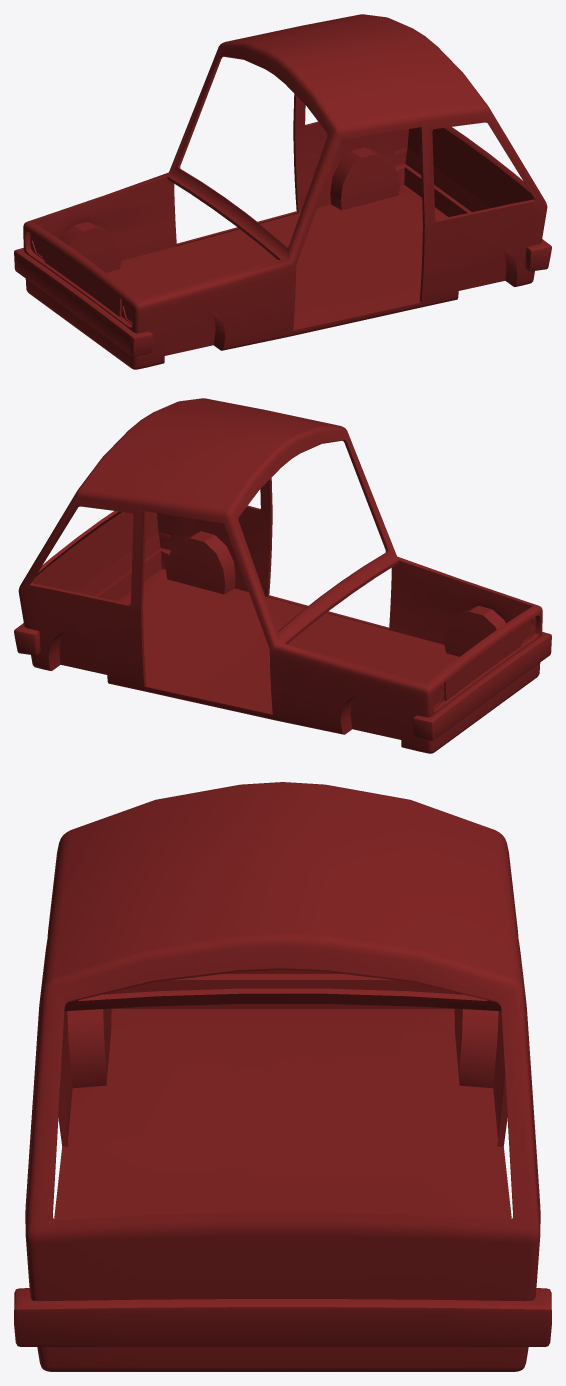
File: cocheuvs6.fbx
3 renders of one model, top to bottom at view 1: azimuth 30°, elevation 25°; view 2: azimuth 150°, elevation 25°; view 3: azimuth 270°, elevation 25°, orthographic. The views are drawn at different scales.
Parts seen in each view (by area): view 1: Box775; view 2: Box775; view 3: Box775.
Part boxes in pixels (x1,y1,x2,y2): Box775: (14, 14, 551, 369); Box775: (14, 398, 551, 753); Box775: (14, 782, 551, 1371).
Bounding box in the file's own units: 433 × 229 × 265.
